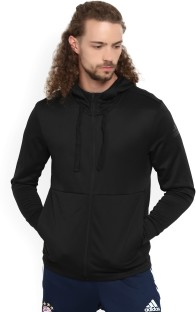Tshirts: (19, 76, 196, 281)
